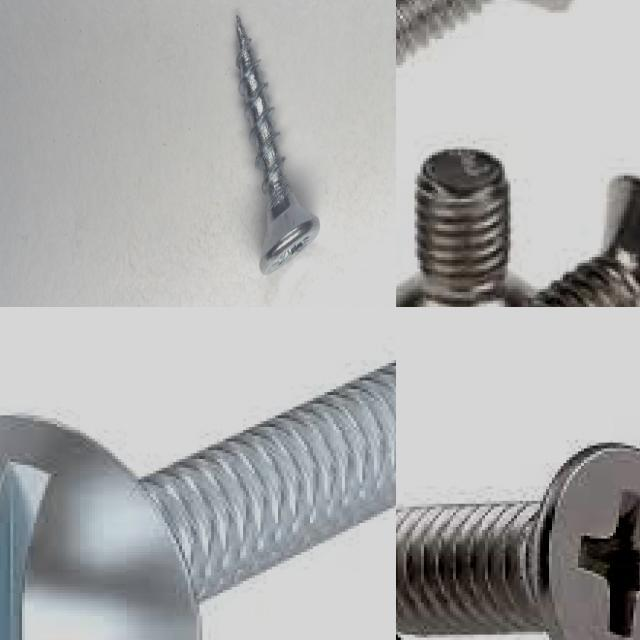Screw: (0, 358, 396, 640), (396, 443, 640, 640), (236, 14, 320, 274), (520, 176, 640, 307)
